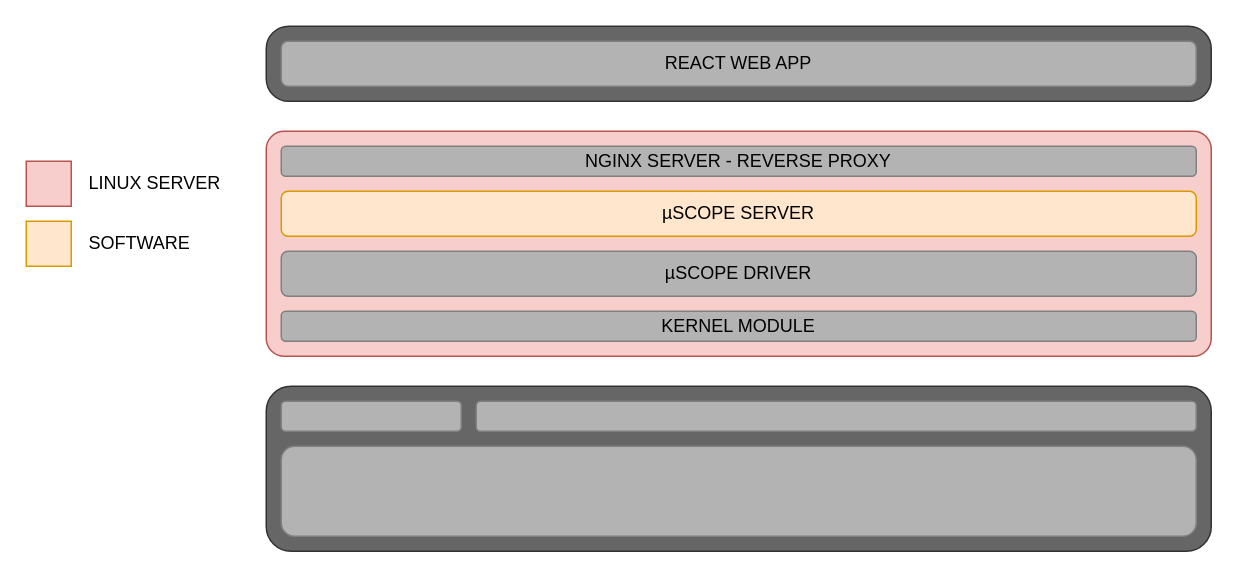
This 1238x578 diagram has some shape labels left out. Here are the shapes that lost their labels. From the top down, the centre of each, then its label:
(x=370, y=415): AXI STREAM DMA
(x=835, y=415): AXI MEMORY MAPPED
(x=738, y=490): HDL IP COLLECTION
